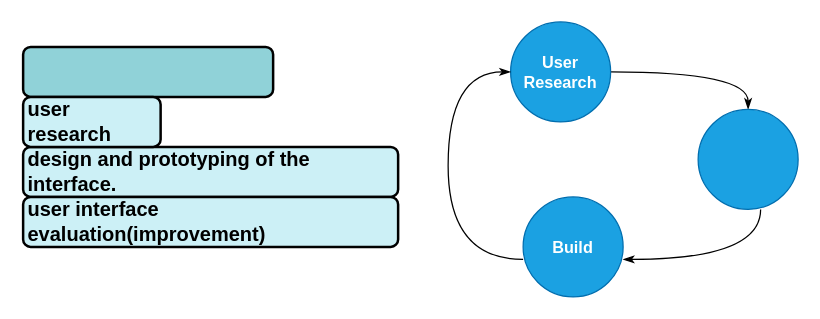
Some shapes in this 820 by 319 pixel diagram are drawn without their labels. The centre of each missing label's shape, as x and y in pixels:
"Design" goes at (x=747, y=158).
"UI Design Process" goes at (x=147, y=71).
